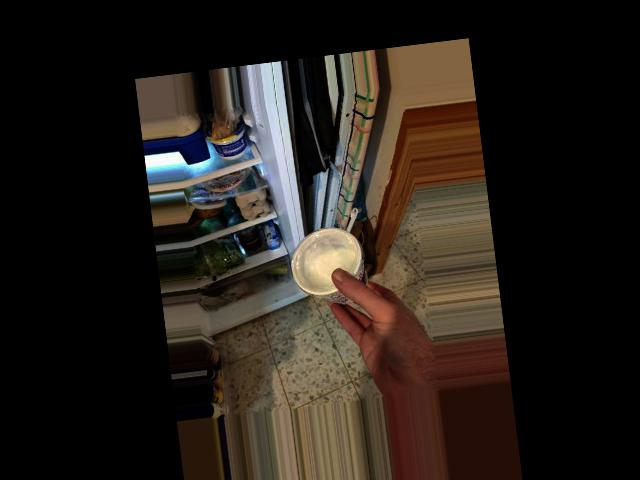cotage: (293, 219, 370, 311)
